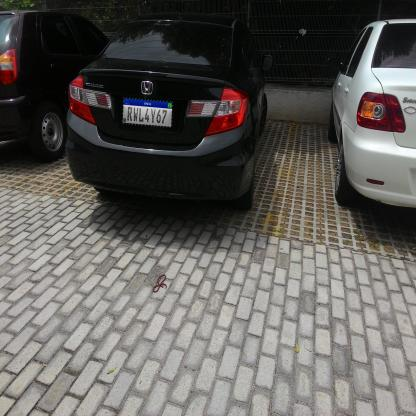PlacaM: (122, 97, 173, 128)
